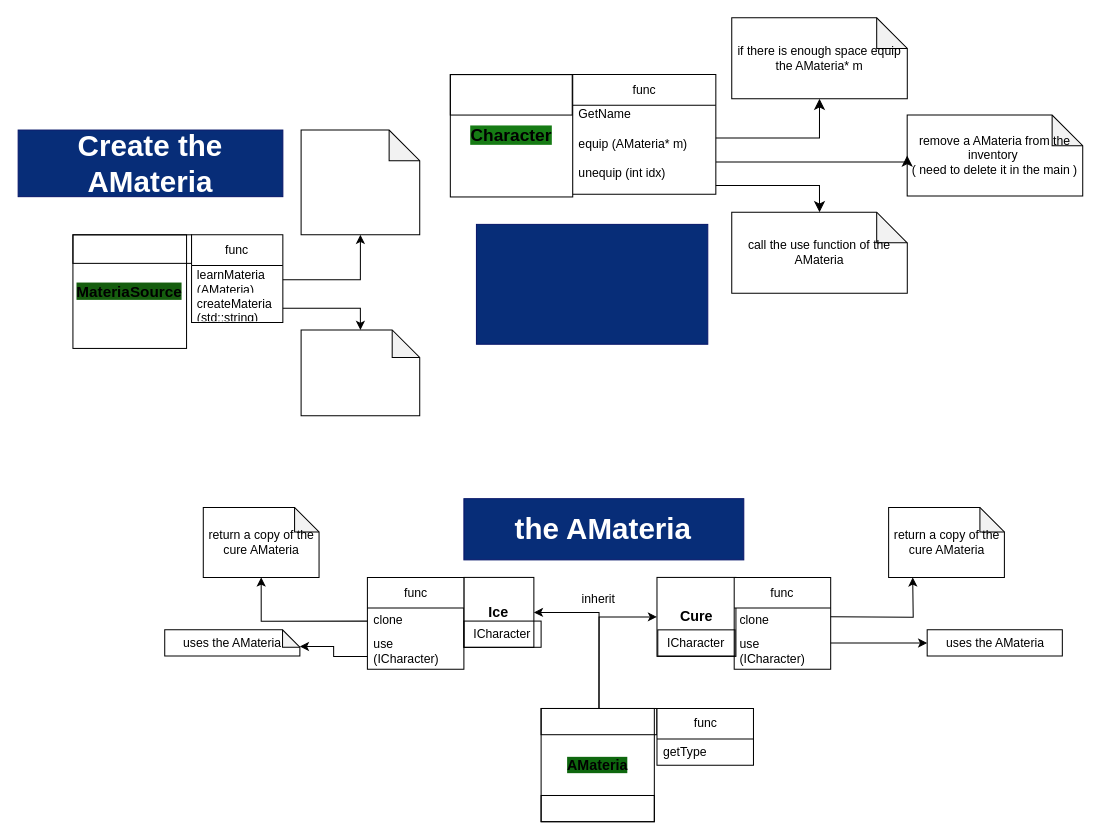
Image size: 1101x840. Some labels were removed from this diagram. The shapes that lost their labels are listed below. From the top down, each one's centre as x and y in pixels, then its label:
point 510,94: std::string _name AMateria* _inventory[4]
point 360,182: add a new AMateria object to the learning inventory max 4
point 132,248: AMateria* _inventory[4]
point 591,283: The Character use the AMateria
point 360,372: if the type is known returns a new AMateria
point 598,721: std::string _type
point 597,808: abstract class
